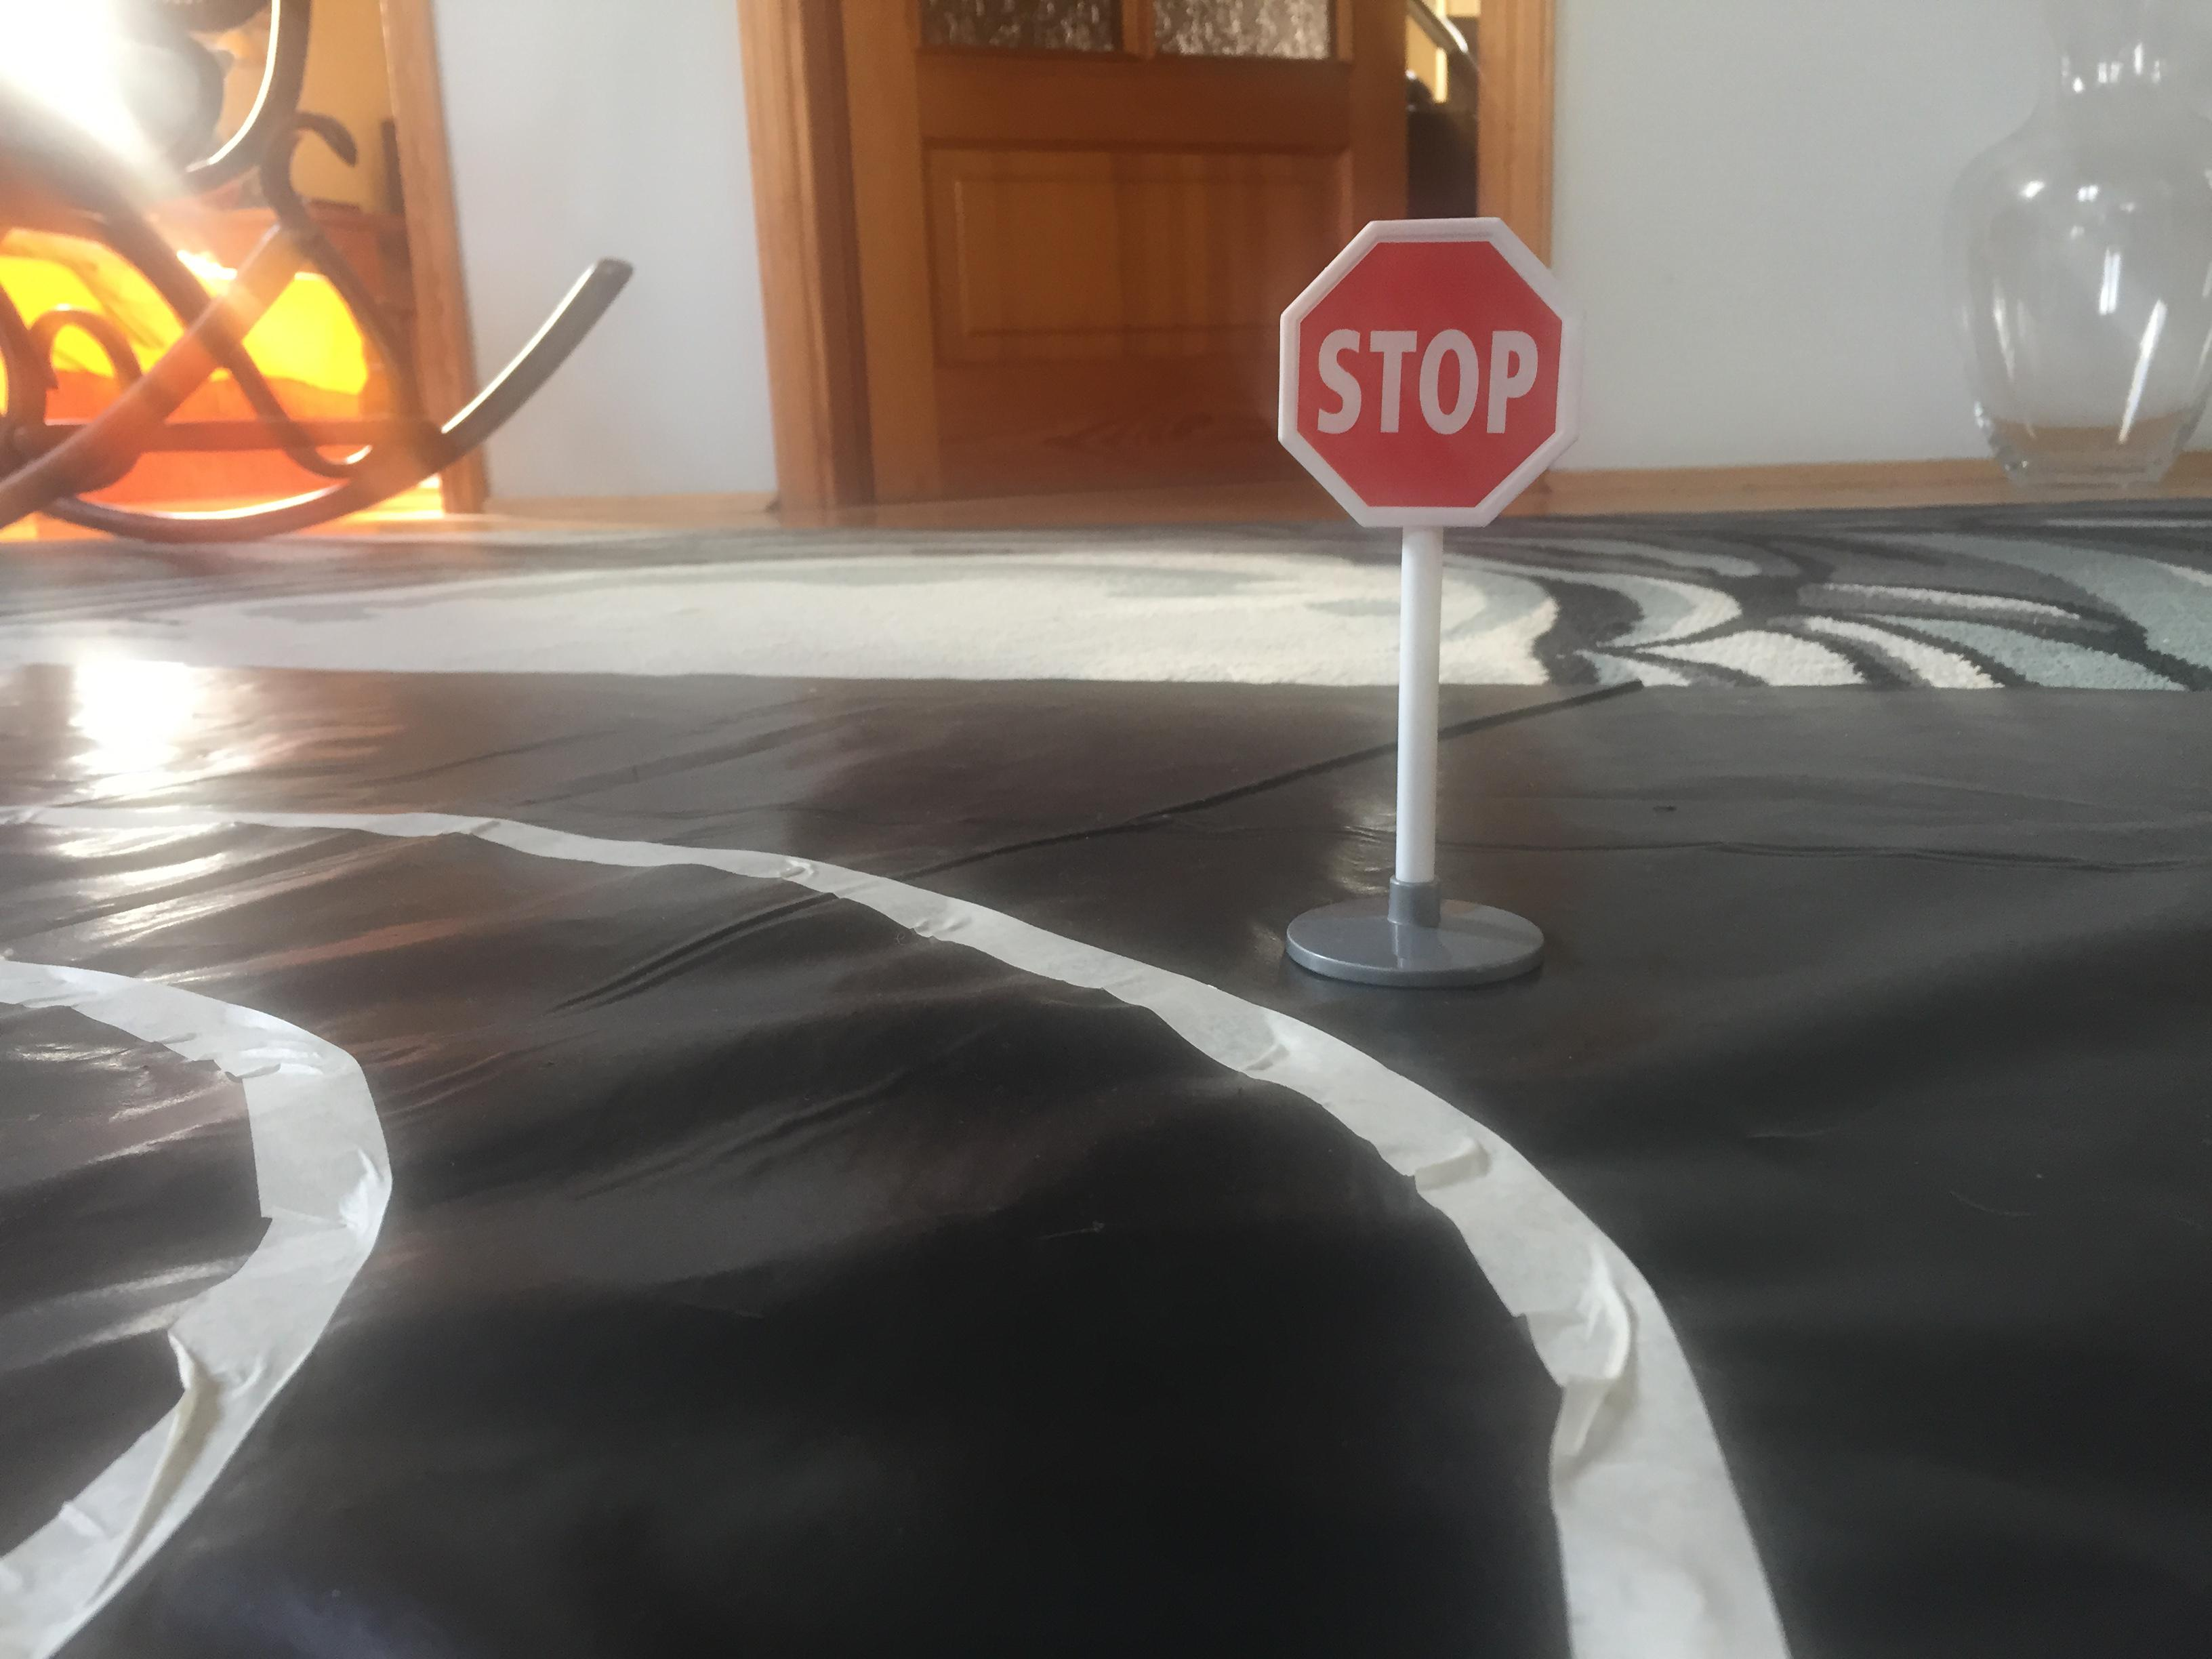stop: (1273, 204, 1587, 538)
